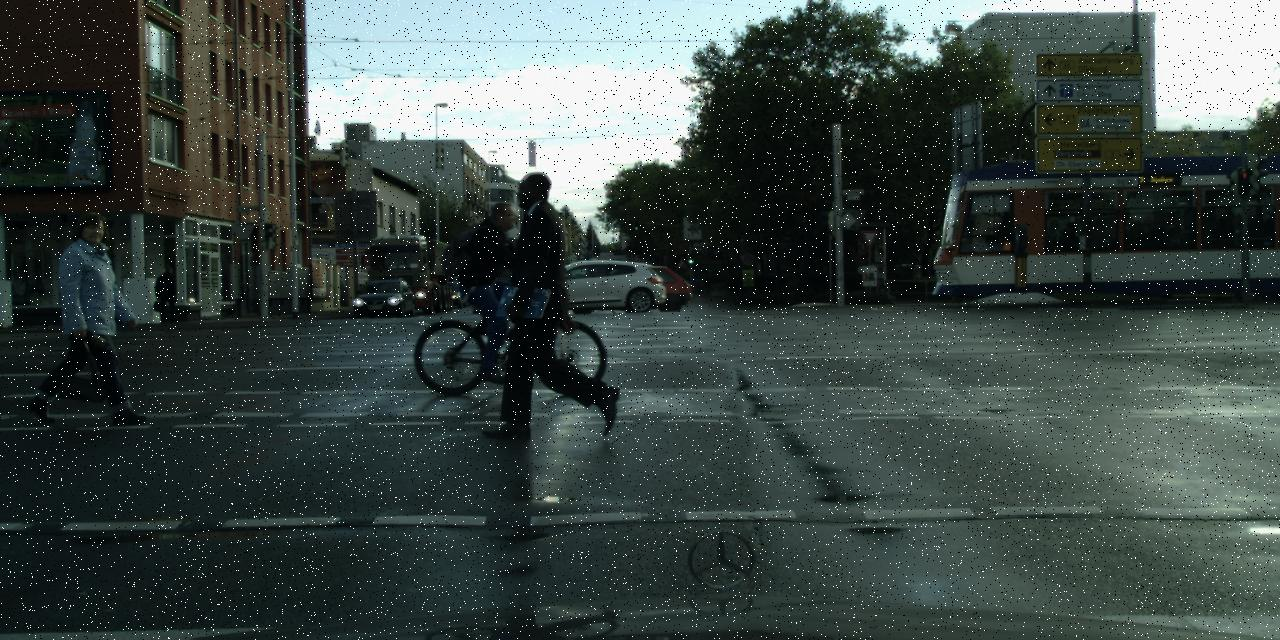ped: (498, 171, 602, 428), (43, 212, 129, 420), (473, 203, 538, 363), (156, 266, 180, 324)
